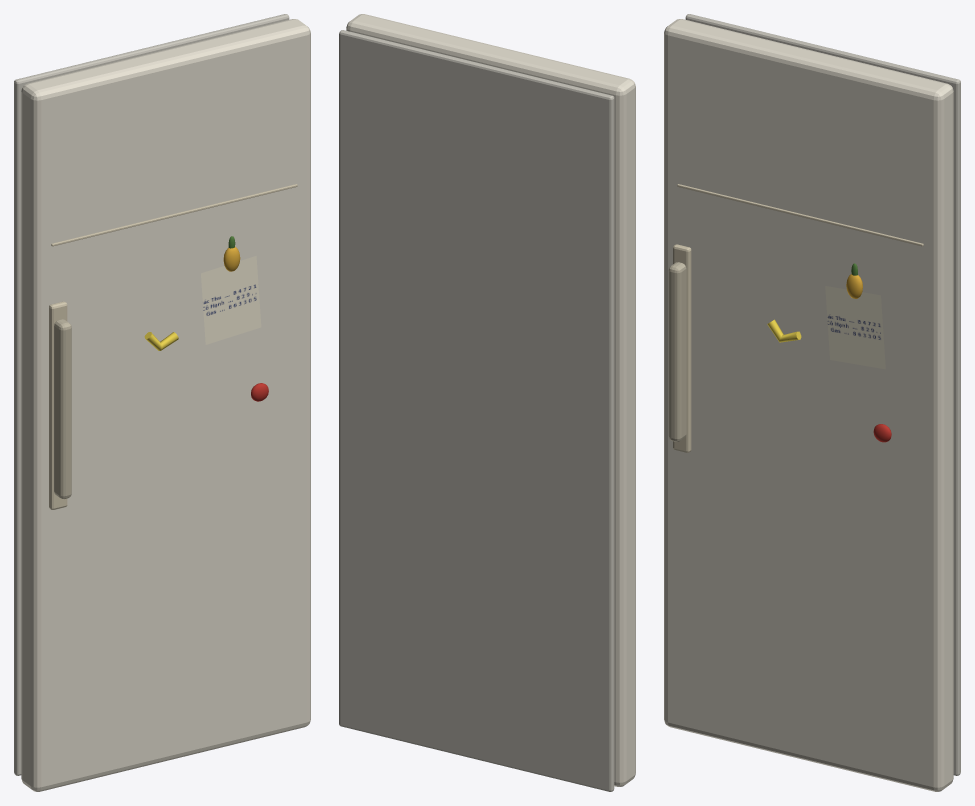
The model's file is TuLanh_Canh.glb.
3 views of the same model, side by side, from view 1: azimuth 30°, elevation 25°; view 2: azimuth 150°, elevation 25°; view 3: azimuth 330°, elevation 25° (orthographic).
Parts seen in each view (by area): view 1: geometry_0; view 2: geometry_0; view 3: geometry_0.
Part boxes in pixels (bbox=[...]): geometry_0: bbox=[14, 14, 310, 791]; geometry_0: bbox=[339, 14, 635, 791]; geometry_0: bbox=[664, 14, 960, 791].
Size of the model in its own units: 0.5 by 1.2 by 0.1085.
9 materials, 1 textured.
